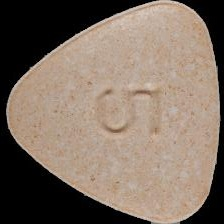0456-1405: (0, 0, 224, 224)
